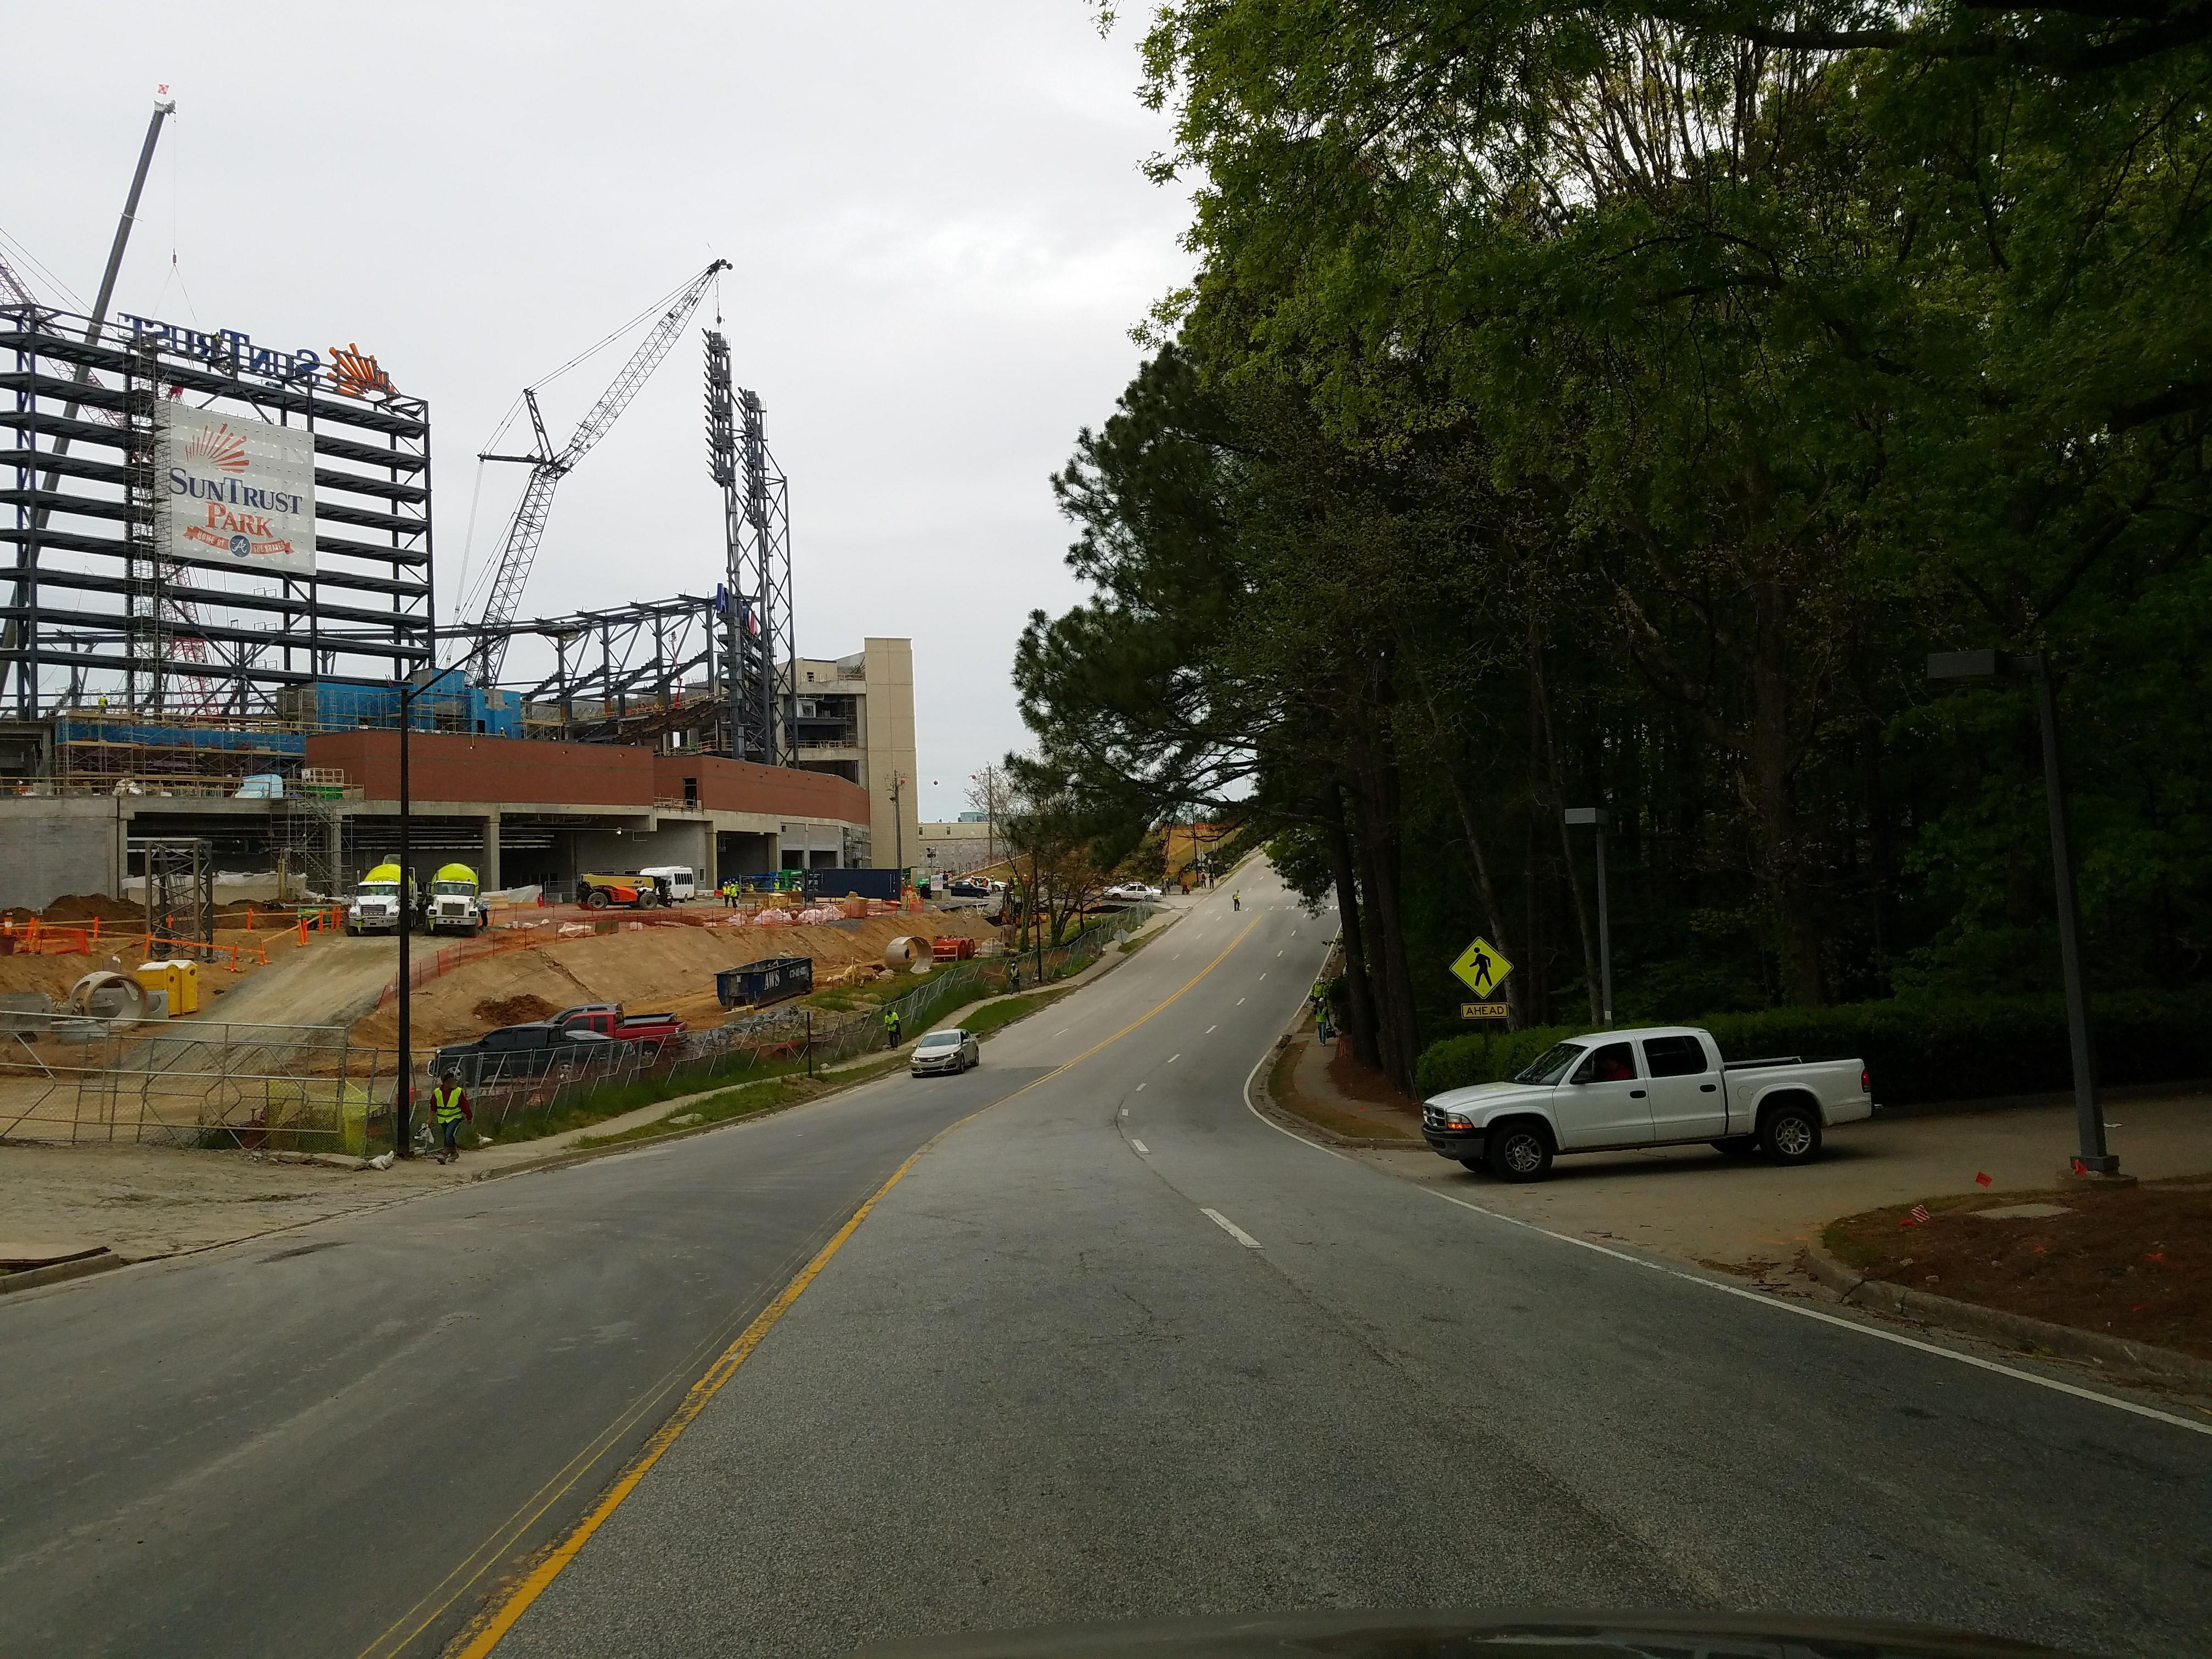vinyl banner: (131, 390, 319, 570)
